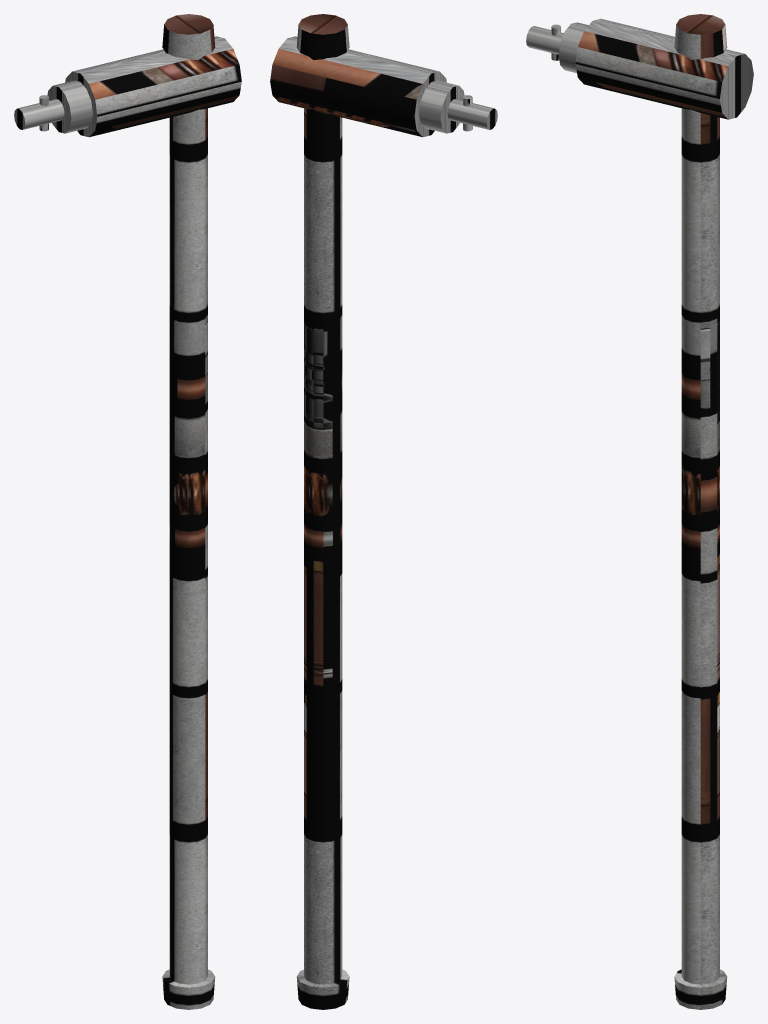
Rendered from kesici.fbx.
3 views of the same model, side by side, from view 1: azimuth 30°, elevation 25°; view 2: azimuth 150°, elevation 25°; view 3: azimuth 330°, elevation 25° (orthographic).
Visible parts, largest first — view 1: Cylinder.002, Cylinder; view 2: Cylinder.002, Cylinder; view 3: Cylinder.002, Cylinder.
Part boxes in pixels (x1=…): Cylinder.002: x1=162, y1=14, x2=215, y2=1009; Cylinder: x1=14, y1=36, x2=241, y2=137; Cylinder.002: x1=296, y1=14, x2=349, y2=1009; Cylinder: x1=270, y1=36, x2=497, y2=137; Cylinder.002: x1=674, y1=14, x2=727, y2=1009; Cylinder: x1=526, y1=18, x2=753, y2=119.
Bounding box in the file's own units: 283 × 1285 × 81.13.
